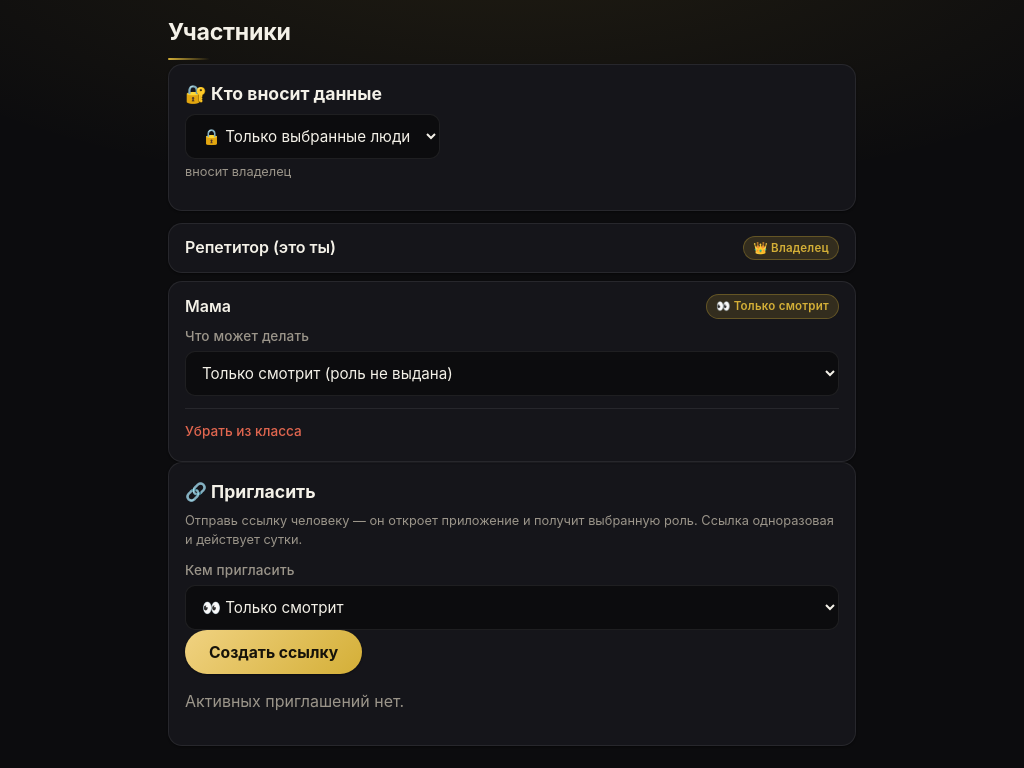
members screen › creates an invite and shows the link once
Click the button "Создать ссылку": (274, 652) [185, 630, 362, 674]
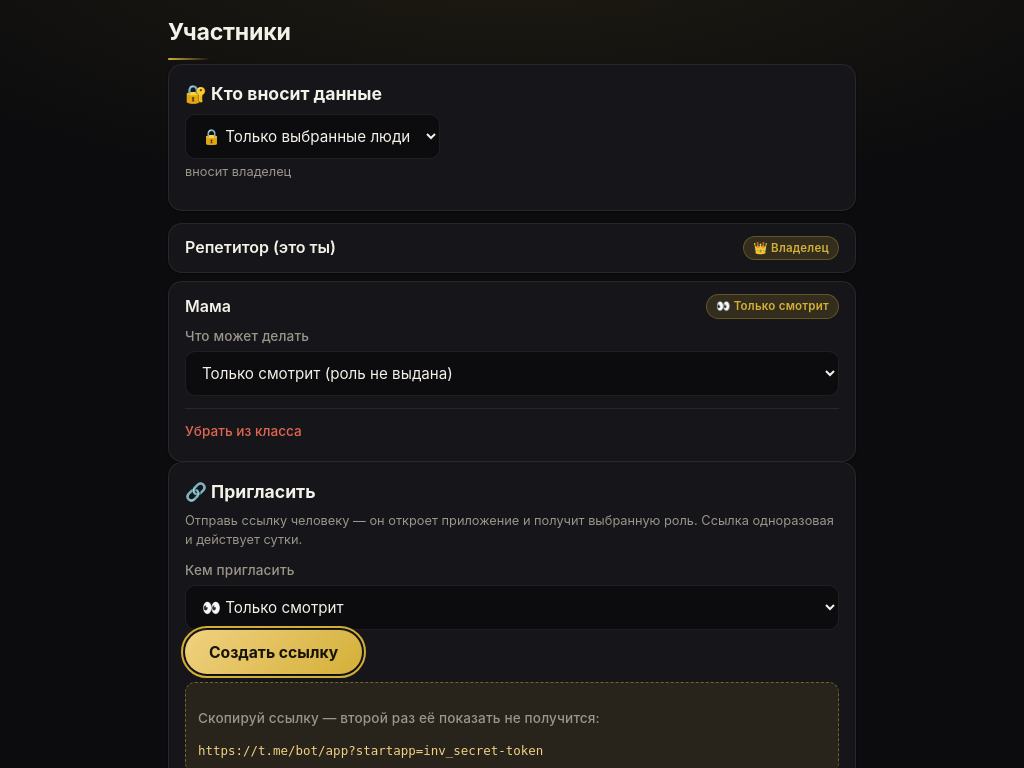
Now the text "https://t.me/bot/app?startapp=inv_secret-token" is shown, box [198, 743, 543, 758]
Now the text "Скопируй ссылку — второй раз её показать не получится:" is shown, box [198, 710, 600, 726]
